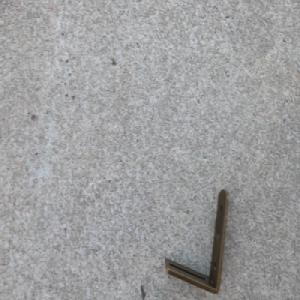MetalPart: (163, 189, 230, 296)
